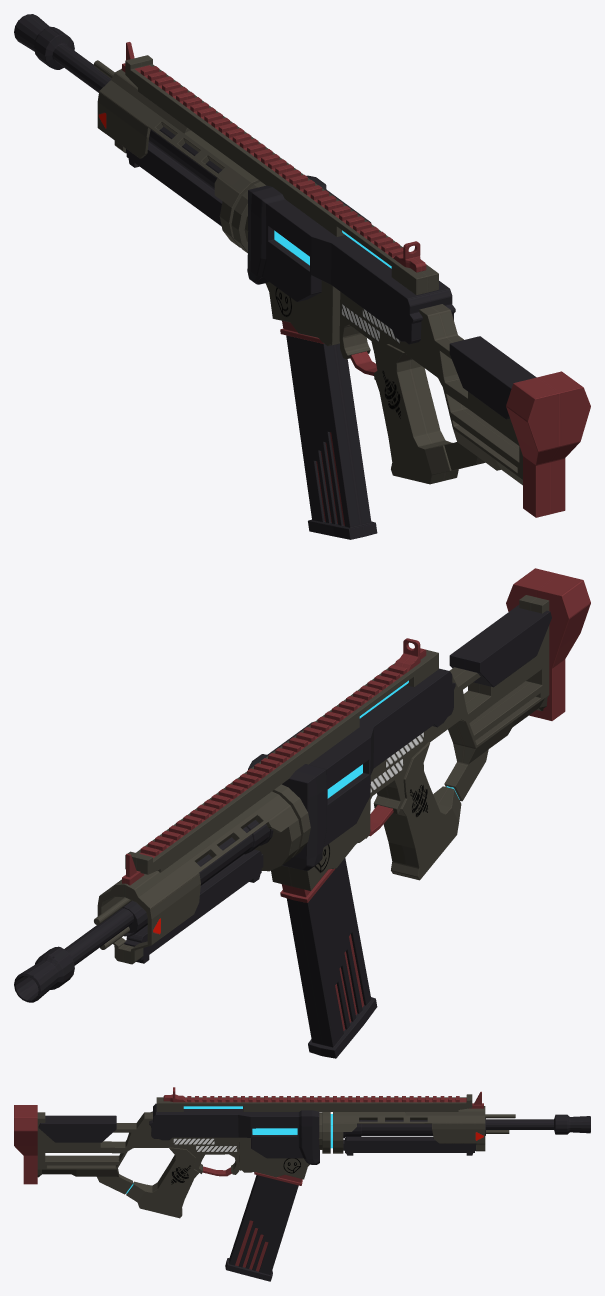
The model's file is near_future_assault_rifle.glb.
3 renders of one model, top to bottom at view 1: azimuth 30°, elevation 25°; view 2: azimuth 150°, elevation 25°; view 3: azimuth 270°, elevation 25°, orthographic. The views are drawn at different scales.
Parts seen in each view (by area): view 1: Cube.002; view 2: Cube.002; view 3: Cube.002.
Part boxes in pixels (left/top/right/bottom): Cube.002: left=14, top=14, right=590, bottom=539; Cube.002: left=14, top=568, right=590, bottom=1058; Cube.002: left=14, top=1087, right=590, bottom=1281.
Size of the model in its own units: 0.3264 by 1.51 by 4.16.
Materials: 1 (1 with a texture image).
